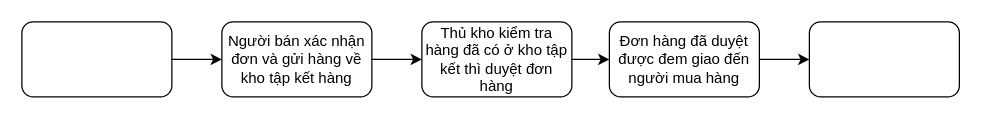
The diagram is 981 pixels wide and 119 high, and some of its shapes have lost their labels. The shapes that lost their labels are listed below. From the top down, each one's centre as x and y in pixels, then its label:
the point at 96,59: Người mua hàng đặt hàng
the point at 883,59: Người mua hàng nhận hàng và xác nhận hàng đã được giao
